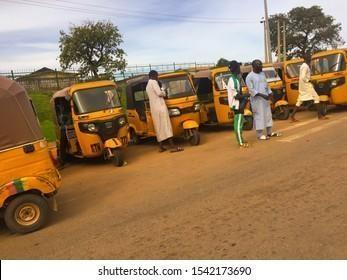keke: (0, 76, 59, 239), (49, 78, 127, 169), (125, 64, 198, 150), (310, 47, 347, 114)
